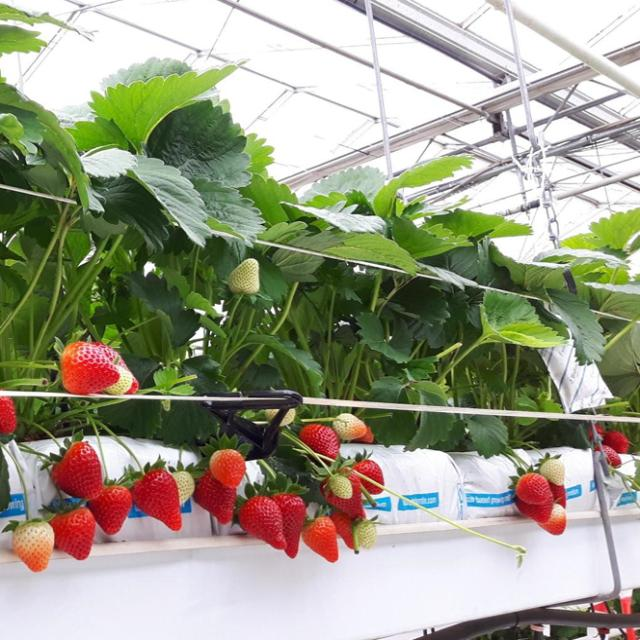Ripe Strawberry: (239, 494, 308, 558), (515, 473, 566, 536), (328, 468, 367, 550), (61, 344, 118, 400), (51, 440, 105, 495), (132, 469, 180, 529), (46, 508, 96, 562), (190, 468, 238, 524), (86, 484, 130, 532), (298, 422, 340, 460), (591, 427, 629, 468), (348, 460, 382, 498), (0, 396, 18, 437), (127, 379, 138, 394)
